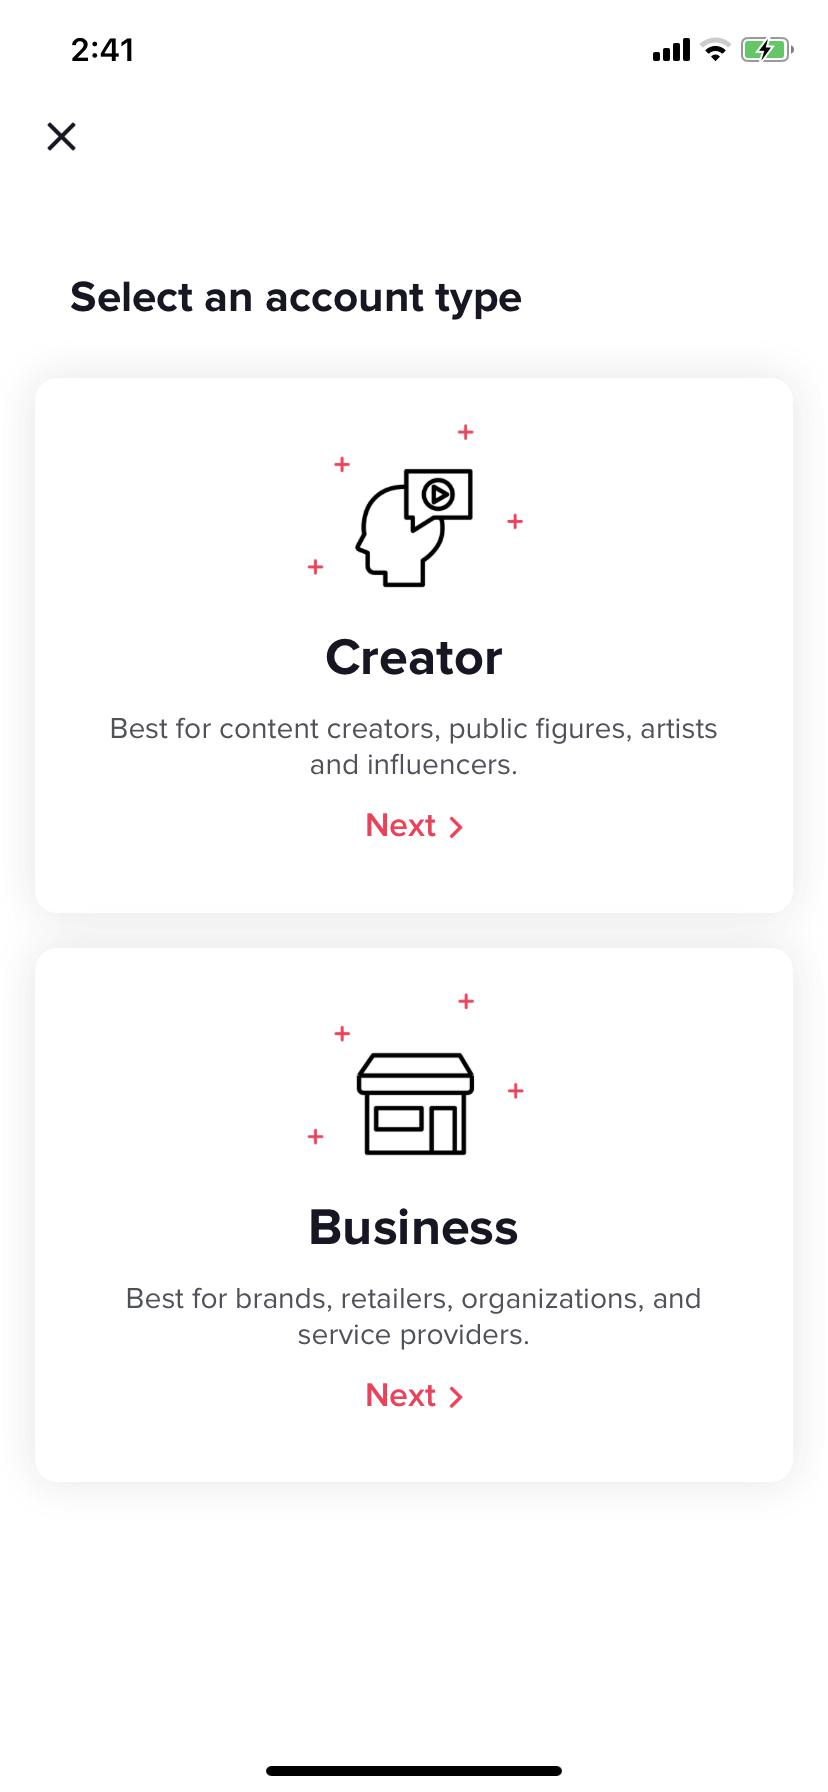Buttons: (303, 1350, 519, 1435), (306, 783, 522, 863)
